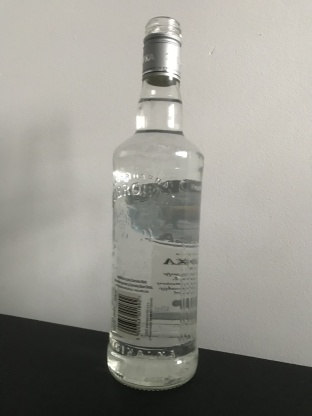nakretka: (140, 14, 183, 88)
